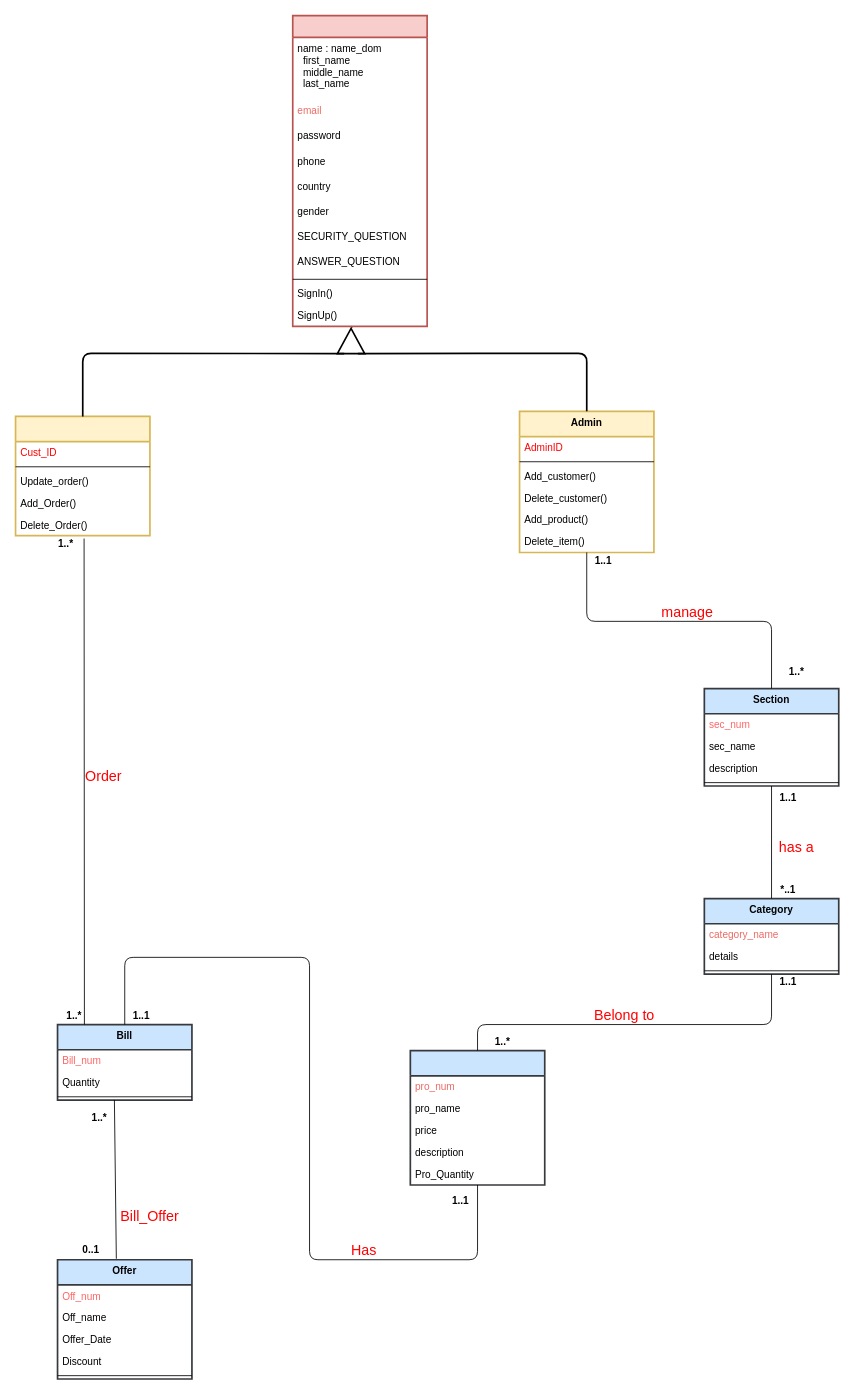
The diagram is 853 pixels wide and 1394 high, and some of its shapes have lost their labels. Here are the shapes that lost their labels. From the top down, the box of each, then its label:
(291, 14, 428, 327): User
(14, 415, 150, 536): Customer
(409, 1049, 545, 1185): Product
